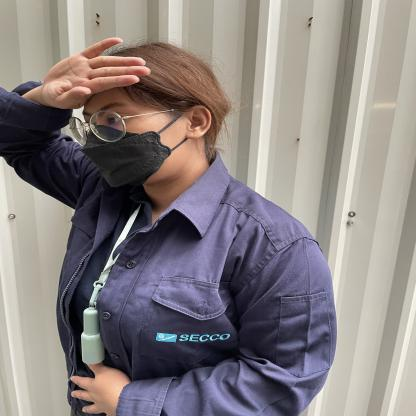Sick: (0, 34, 280, 213)
